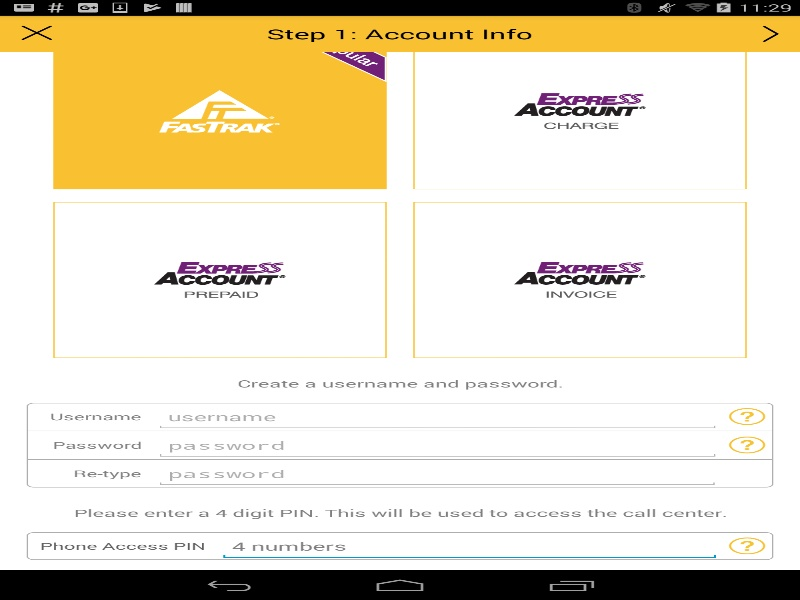Input: (154, 402, 720, 430), (154, 431, 720, 459), (154, 459, 720, 487), (218, 532, 720, 560)
